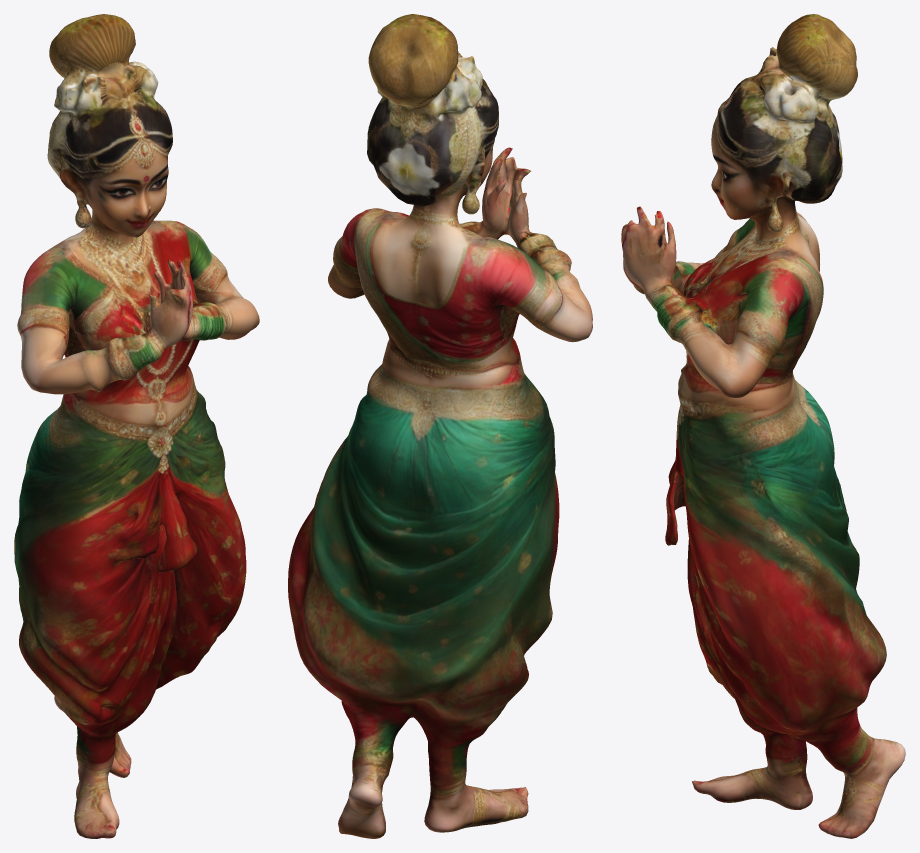
The picture shows the model from 3 angles, left to right: view 1: azimuth 30°, elevation 25°; view 2: azimuth 150°, elevation 25°; view 3: azimuth 270°, elevation 25°; orthographic projection. The views are drawn at different scales.
Bounding box in the file's own units: 0.6581 × 2 × 0.6454.
Materials: 1 (1 with a texture image).
